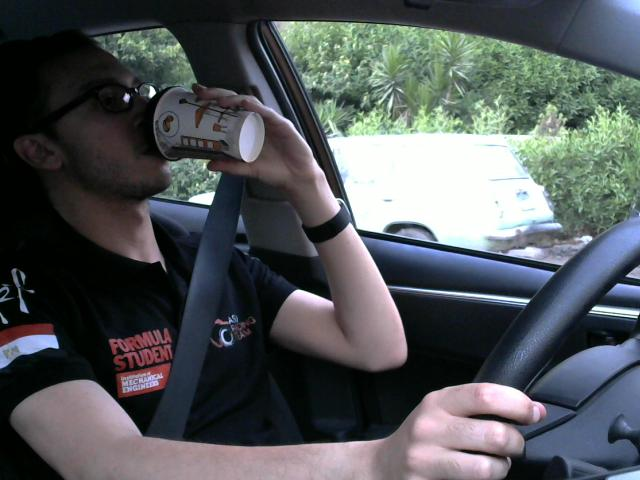Drinking: (142, 77, 272, 170)
